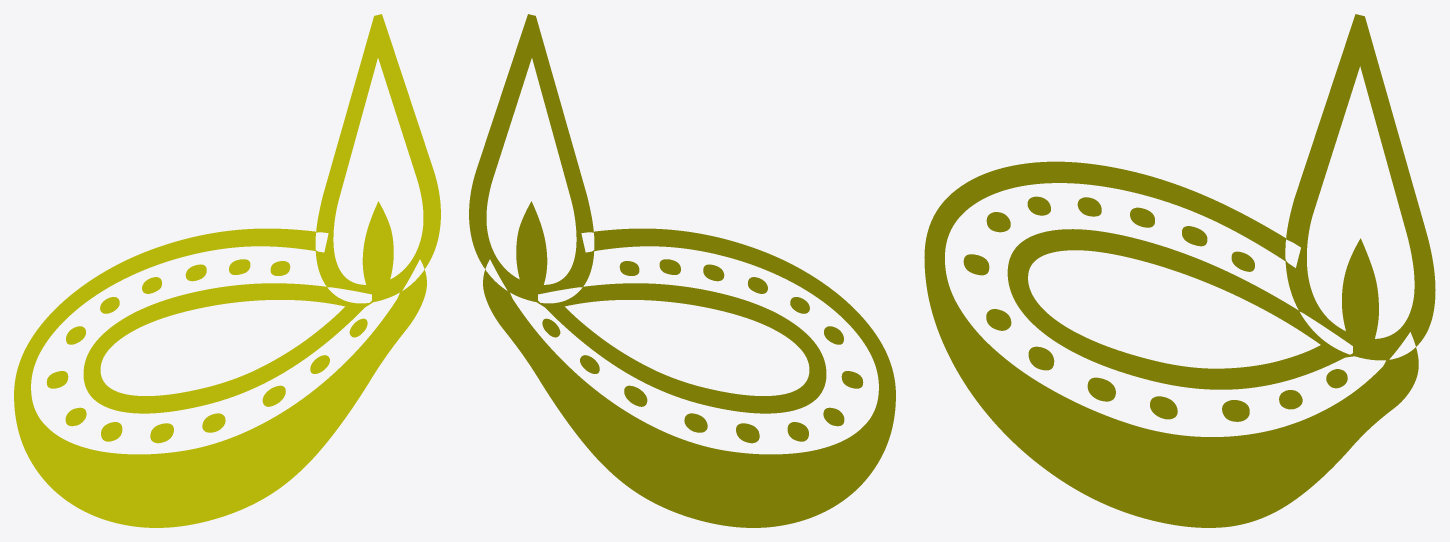
The model's file is female.glb.
The picture shows the model from 3 angles, left to right: view 1: azimuth 30°, elevation 25°; view 2: azimuth 150°, elevation 25°; view 3: azimuth 330°, elevation 25°; orthographic projection. The views are drawn at different scales.
Visible parts, largest first — view 1: Text.1033_1033; view 2: Text.1033_1033; view 3: Text.1033_1033.
Boxes of the visible parts, <box> form: Text.1033_1033: <box>14,14,440,527</box>; Text.1033_1033: <box>469,14,895,527</box>; Text.1033_1033: <box>924,14,1435,527</box>.
Bounding box in the file's own units: 0.977 × 1.02 × 3.6e-06.
